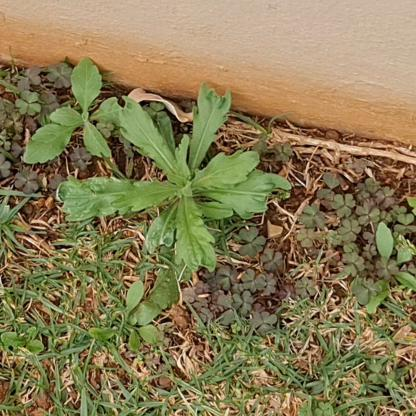Weeds: (58, 82, 291, 277), (22, 58, 144, 171), (357, 220, 415, 318), (89, 279, 158, 352), (0, 324, 45, 363)
